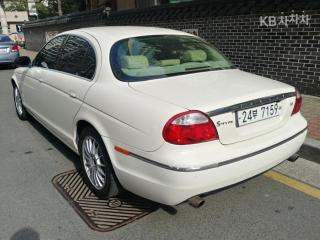1: (265, 106, 270, 117)
2: (242, 111, 248, 123)
4: (247, 110, 253, 121)
5: (269, 104, 274, 116)
7: (260, 106, 265, 118)
9: (274, 103, 278, 115)
plate: (229, 100, 283, 127)
부: (252, 109, 258, 119)
